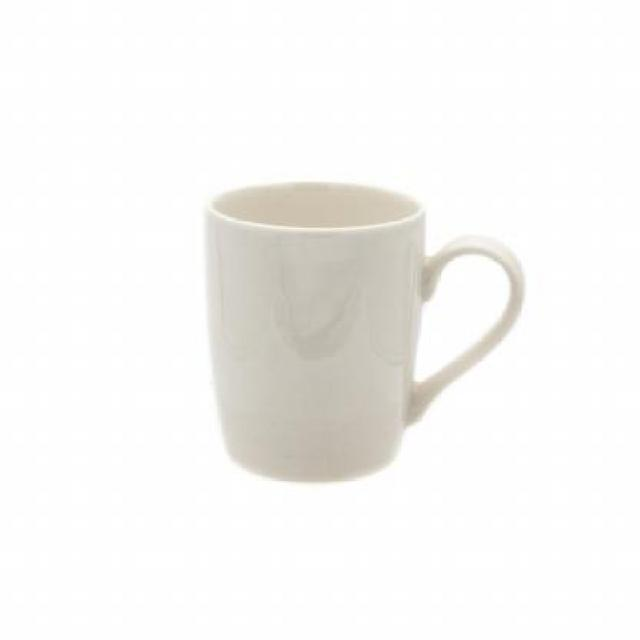taza: (203, 178, 527, 484)
